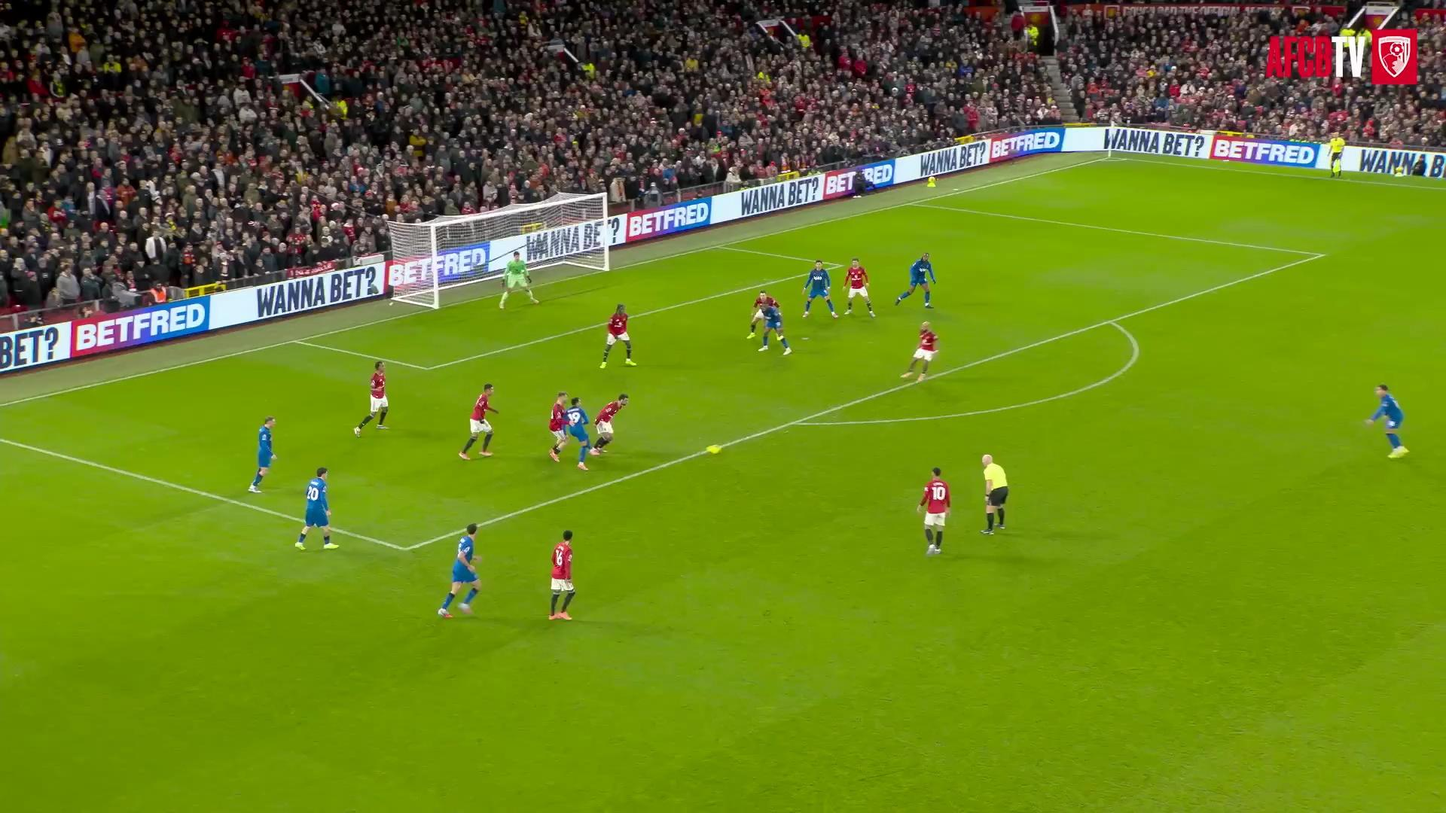football: (700, 440, 729, 461)
player: (438, 523, 478, 617), (295, 467, 339, 549), (1366, 384, 1408, 458), (917, 467, 950, 554), (459, 384, 497, 459), (354, 361, 388, 437), (548, 530, 575, 620), (600, 304, 636, 368), (895, 252, 936, 307), (499, 251, 538, 307), (590, 394, 627, 453), (248, 416, 276, 492), (901, 321, 937, 380), (804, 260, 837, 317), (565, 397, 590, 470), (846, 257, 875, 316), (759, 302, 791, 355), (746, 290, 778, 338), (549, 391, 567, 461)
referee: (981, 455, 1008, 534), (1329, 133, 1345, 176)
